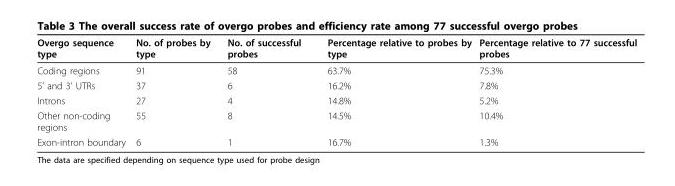table: (36, 36, 636, 147)
table column: (474, 36, 636, 147), (313, 36, 474, 147), (218, 36, 313, 147), (36, 36, 130, 147), (130, 36, 218, 147)
table column header: (36, 36, 636, 61)
table row: (36, 107, 636, 134), (36, 36, 636, 61), (36, 61, 636, 77), (36, 77, 636, 92), (36, 92, 636, 107), (36, 134, 636, 147)
